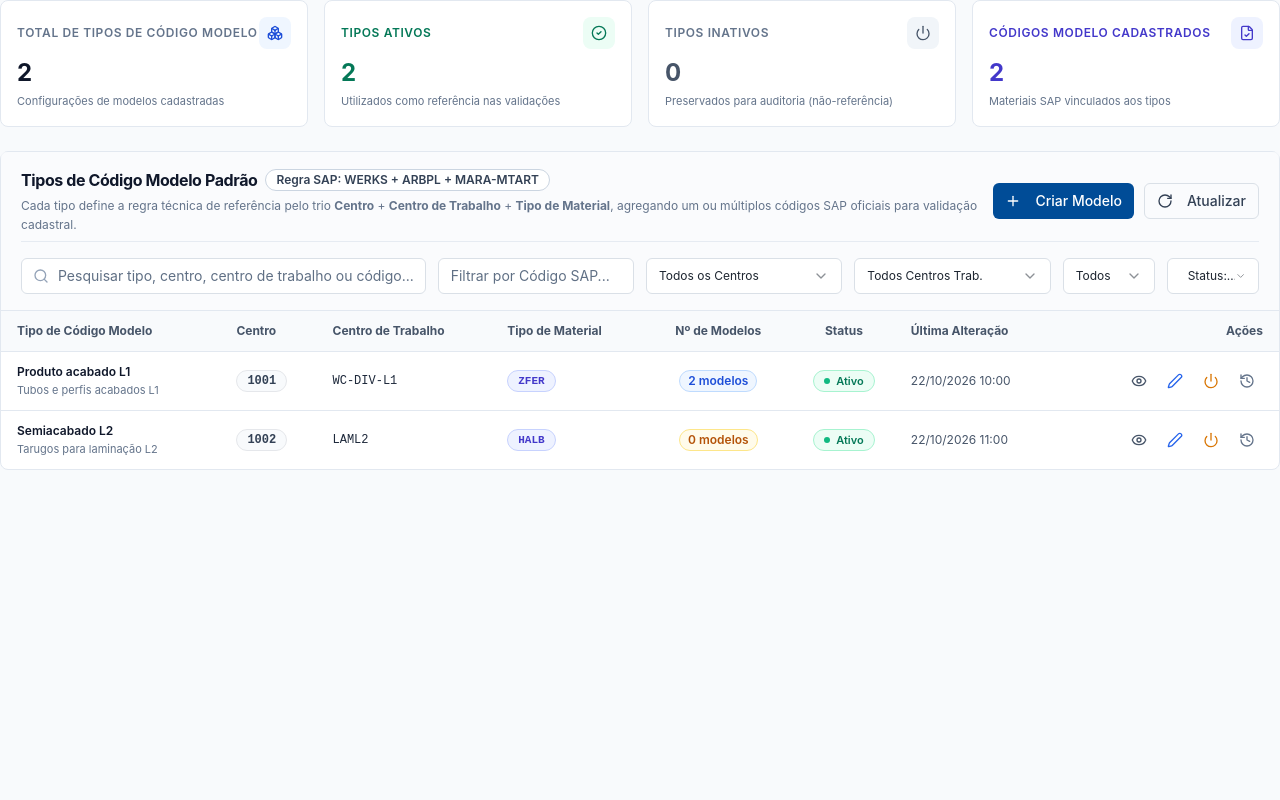
Test: Editar Tipo de Código Modelo Padrão — UI & Acceptance Requirements › 6. Cancela e pede confirmação quando há alterações no modo de edição
expect the text "Produto acabado L1" is shown: met, box x1=17 y1=364 x2=130 y2=378
Click the button named "Editar Produto acabado L1" at point(1175, 380), box x1=1159 y1=364 x2=1191 y2=396
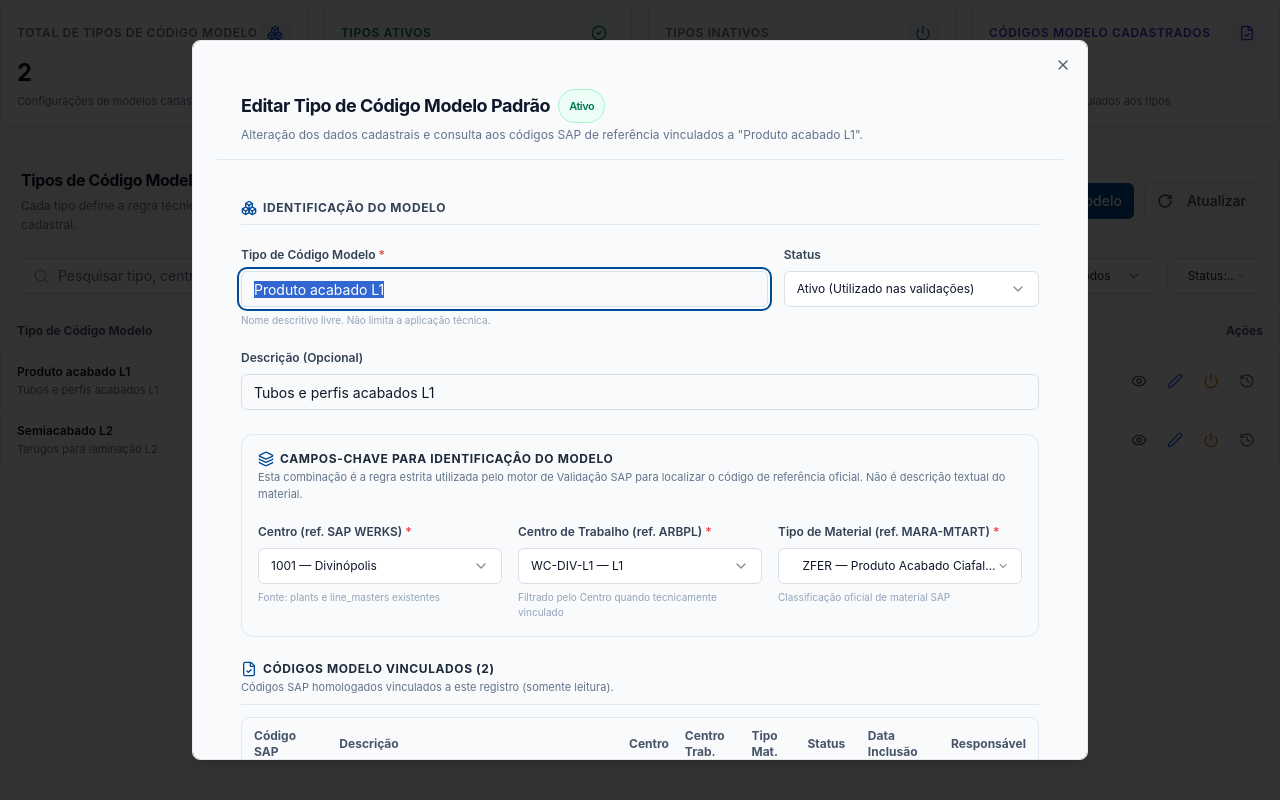
expect the 1st field showing "Produto acabado L1" is shown: met, box x1=241 y1=271 x2=768 y2=307
Replace the text in the field showing "Tubos e perfis acabados L1" below "Descrição (Opcional)" with "Descrição alterada sem salvar" at point(640, 392), box x1=241 y1=374 x2=1039 y2=410
(page scrolled)
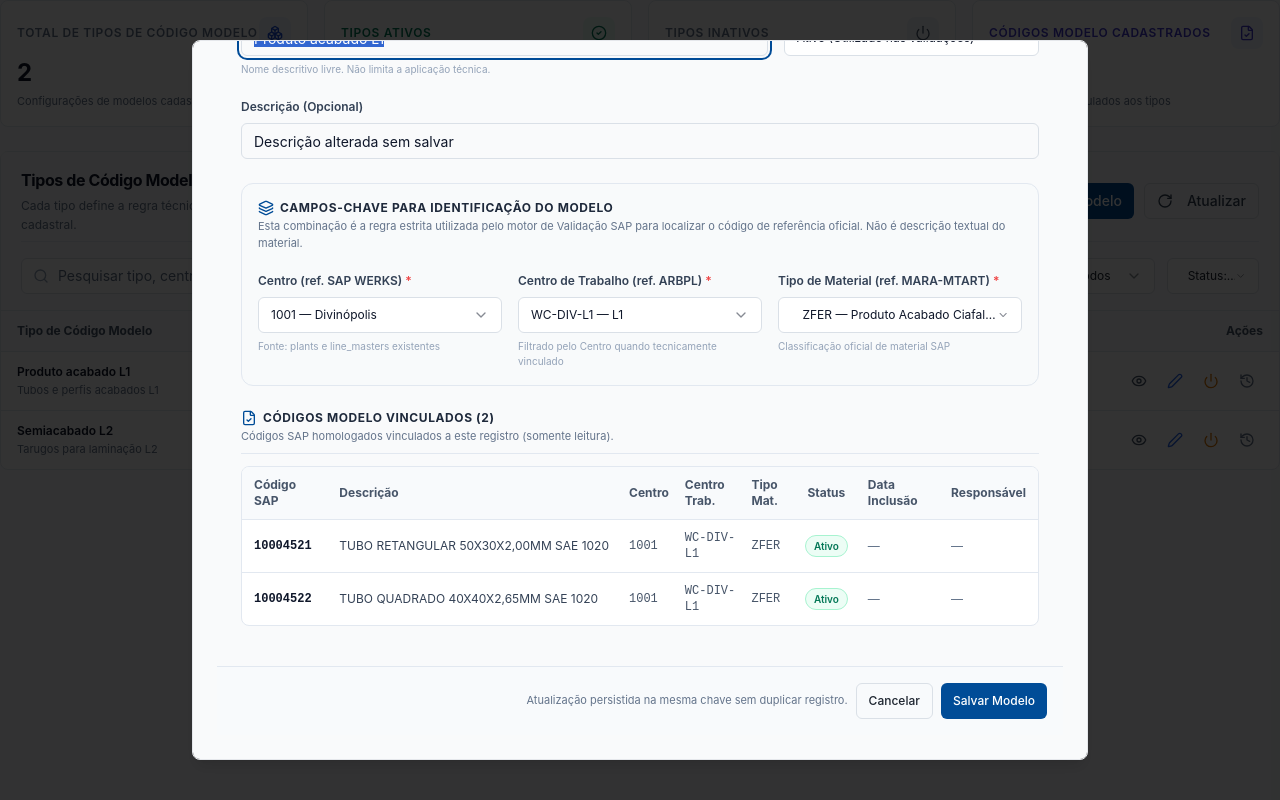
Click the button "Cancelar" at point(894, 700), box x1=856 y1=682 x2=933 y2=718
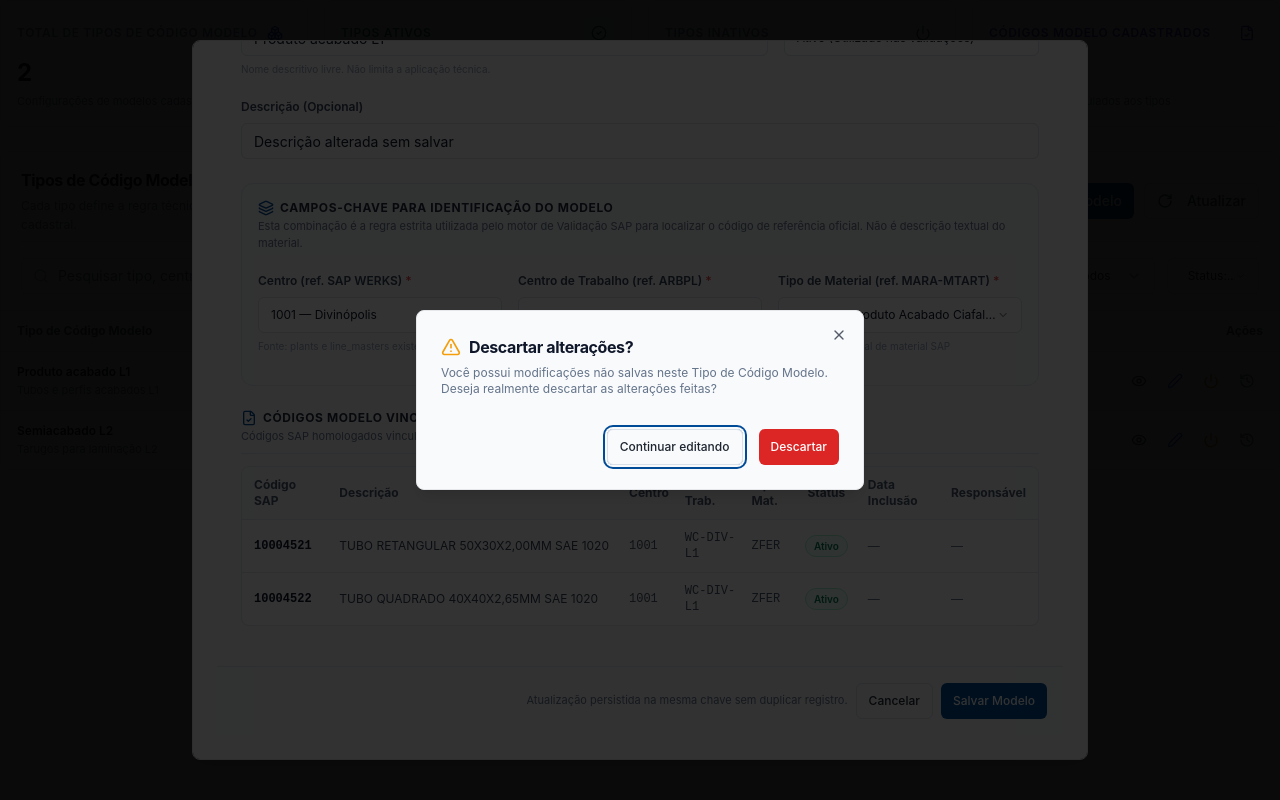
expect the heading "Descartar alterações?" is shown: met, box x1=441 y1=337 x2=633 y2=357
Se clicar em Continuar editando, mantém modal aberto
Click the button "Continuar editando" at point(675, 447), box x1=607 y1=429 x2=742 y2=465
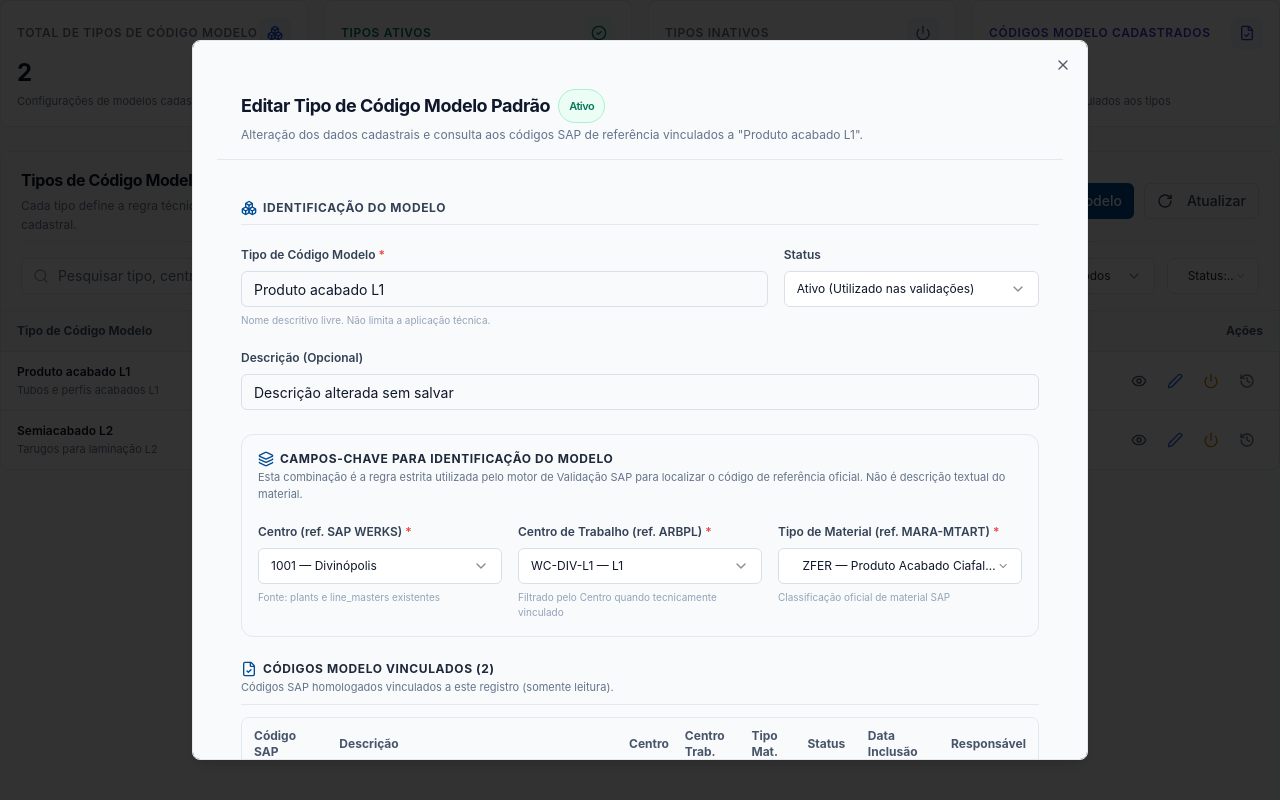
expect the heading "Editar Tipo de Código Modelo Padrão" is shown: met, box x1=241 y1=95 x2=550 y2=116
